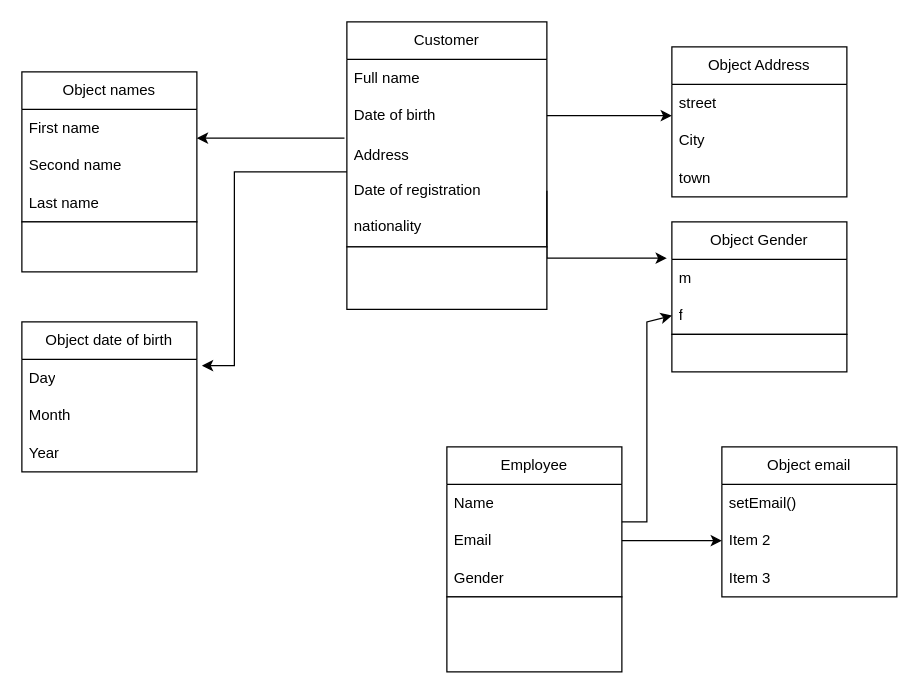
Image size: 919x694. Some labels were removed from this diagram. Each missing label, with the centre of its shape:
enterinformation() displayinformation(): point (446, 277)
getGender(): point (759, 352)
getName() getEmail getGender(): point (534, 634)
String getName(): point (109, 246)
